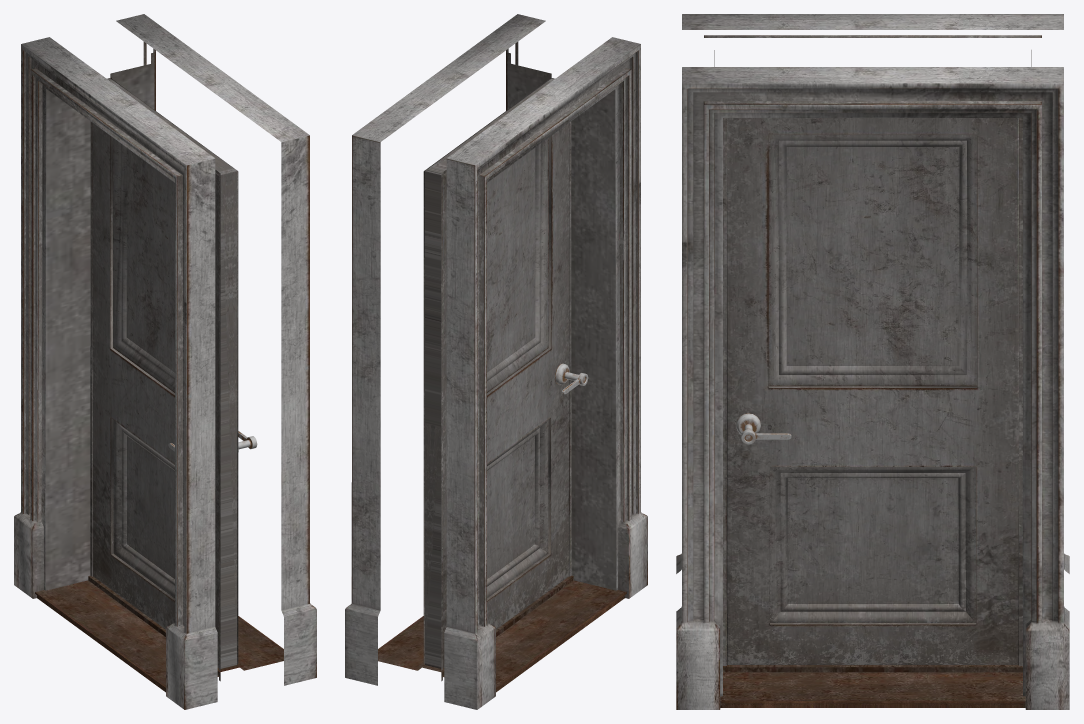
File: wooden_door_lowpoly.glb
3 views of the same model, side by side, from view 1: azimuth 30°, elevation 25°; view 2: azimuth 150°, elevation 25°; view 3: azimuth 270°, elevation 25° (orthographic). The views are drawn at different scales.
Visible parts, largest first — view 1: Cube.001_Material.001_0, Cube_Material.002_0; view 2: Cube.001_Material.001_0, Cube_Material.002_0; view 3: Cube_Material.002_0, Cube.001_Material.001_0.
Part boxes in pixels (x1=…): Cube.001_Material.001_0: x1=14, y1=14, x2=316, y2=709; Cube_Material.002_0: x1=92, y1=78, x2=257, y2=668; Cube.001_Material.001_0: x1=345, y1=14, x2=647, y2=709; Cube_Material.002_0: x1=423, y1=78, x2=588, y2=668; Cube_Material.002_0: x1=727, y1=118, x2=1018, y2=664; Cube.001_Material.001_0: x1=676, y1=14, x2=1069, y2=709.
Size of the model in its own units: 0.4588 by 1.8 by 1.03.
2 materials, 2 textured.
